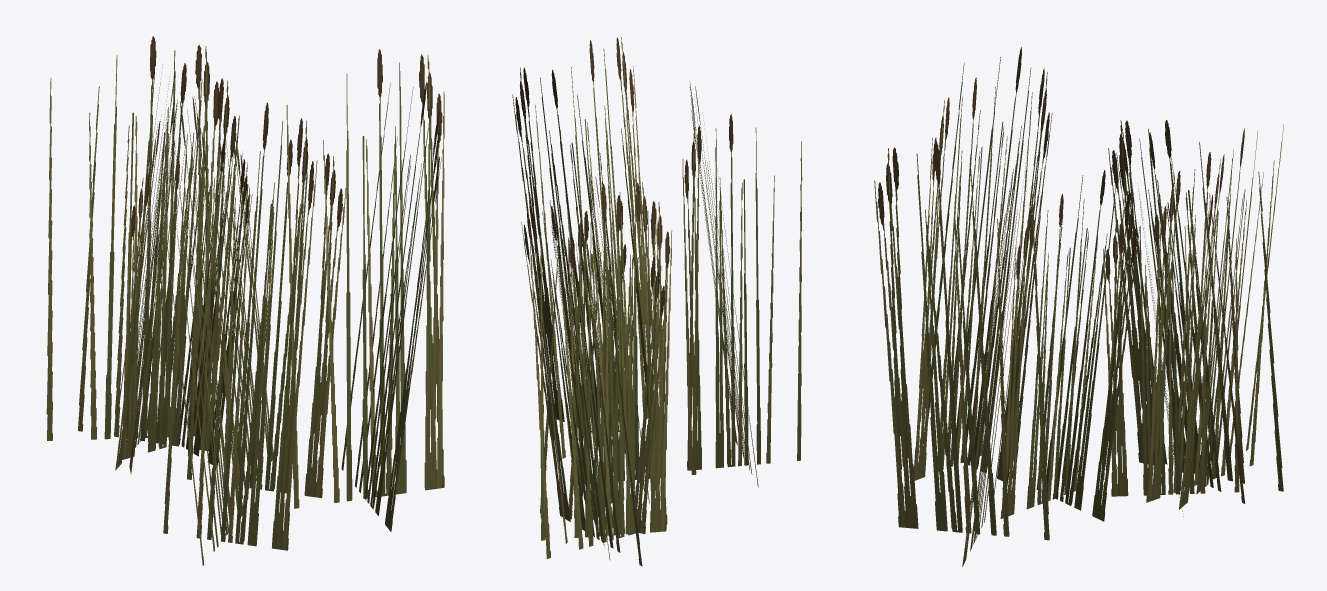
File: SM_Art_Veg_Reeds_2.gltf
The picture shows the model from 3 angles, left to right: view 1: azimuth 30°, elevation 25°; view 2: azimuth 150°, elevation 25°; view 3: azimuth 270°, elevation 25°; orthographic projection. The views are drawn at different scales.
Visible parts, largest first — view 1: SM_Art_Veg_Reeds_2; view 2: SM_Art_Veg_Reeds_2; view 3: SM_Art_Veg_Reeds_2.
Boxes of the visible parts, box(x1,y1,x2,y2) form: SM_Art_Veg_Reeds_2: box(46, 36, 444, 565); SM_Art_Veg_Reeds_2: box(512, 37, 802, 566); SM_Art_Veg_Reeds_2: box(874, 47, 1283, 566).
Bounding box in the file's own units: 1.58 × 1.88 × 1.89.
1 material, 1 textured.
